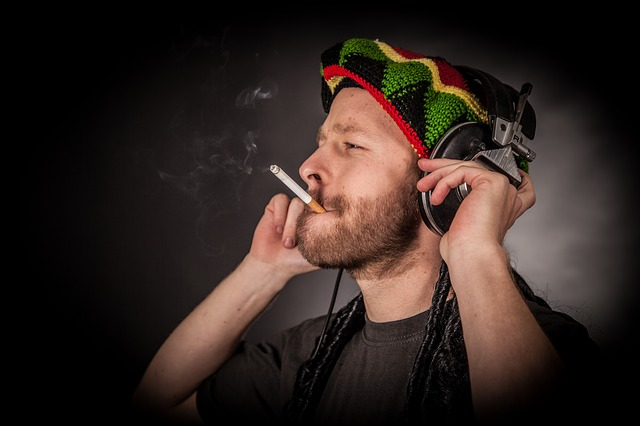headphones: (419, 68, 536, 246)
